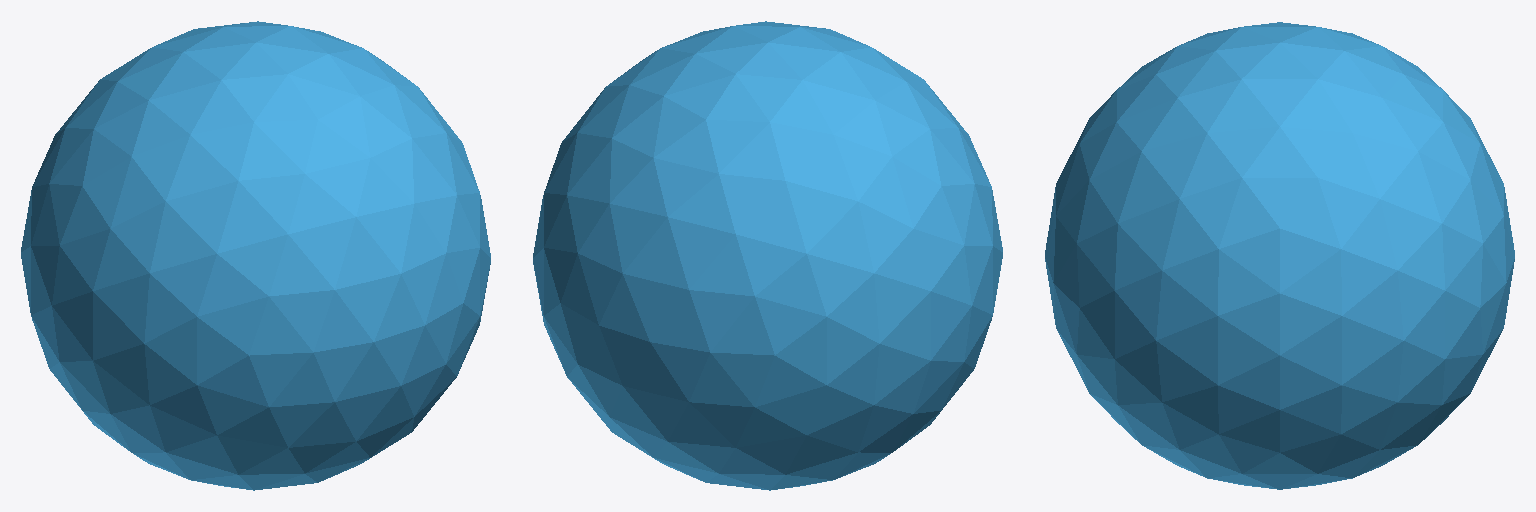
The robot description file, URDF, robot "pointRobot":
<?xml version="1.0"?>
<!-- =================================================================================== -->
<!-- |    This document was autogenerated by xacro from panda_arm.urdf.xacro           | -->
<!-- |    EDITING THIS FILE BY HAND IS NOT RECOMMENDED                                 | -->
<!-- =================================================================================== -->


<robot name="pointRobot">
  <material name="blue">
      <color rgba="0 0 0.8 1"/>
  </material>
  <material name="red">
      <color rgba="0.8 0 0.0 1"/>
  </material>
  <link name="world"/>
  <link name="base_link_x">
    <inertial>
      <mass value="1.0"/>
      <origin rpy="0 0 0" xyz="0 0 0"/>
      <inertia ixx="1.0" ixy="0.0" ixz="0.0" iyy="1.0" iyz="0.0" izz="1.0"/>
    </inertial>
        <collision>
      <origin rpy="0.0 0 0" xyz="0 0 0"/>
      <geometry>
          <mesh filename="package://meshes/pointrobot_link_0.stl"/>
      </geometry>
    </collision>
    <visual>
      <origin rpy="0.0 0 0" xyz="0 0 0"/>
      <geometry>
          <mesh filename="package://meshes/pointrobot_link_0.stl"/>
      </geometry>
    </visual>
  </link>
  <link name="base_link_y">
    <inertial>
      <mass value="1.0"/>
      <origin rpy="0 0 0" xyz="0 0 0"/>
      <inertia ixx="1.0" ixy="0.0" ixz="0.0" iyy="1.0" iyz="0.0" izz="1.0"/>
    </inertial>
        <collision>
      <origin rpy="0.0 0 0" xyz="0 0 0"/>
      <geometry>
          <mesh filename="package://meshes/pointrobot_link_1.stl"/>
      </geometry>
    </collision>
    <visual>
      <origin rpy="0.0 0 0" xyz="0 0 0"/>
      <geometry>
          <mesh filename="package://meshes/pointrobot_link_1.stl"/>
      </geometry>
    </visual>
  </link>
  <link name="base_link">
    <inertial>
      <mass value="100.0"/>
      <origin rpy="0 0 0" xyz="0 0 0"/>
      <inertia ixx="1.0" ixy="0.0" ixz="0.0" iyy="1.0" iyz="0.0" izz="1.0"/>
    </inertial>
    <collision>
      <origin rpy="0.0 0 0" xyz="0 0 0"/>
      <geometry>
          <mesh filename="package://meshes/pointrobot_link_2.stl"/>
      </geometry>
    </collision>
    <visual>
      <origin rpy="0.0 0 0" xyz="0 0 0"/>
      <geometry>
          <mesh filename="package://meshes/pointrobot_link_2.stl"/>
      </geometry>
    </visual>
  </link>
  <link name="lidar_link">
    <inertial>
      <mass value="100.0"/>
      <origin rpy="0 0 0" xyz="0 0 0"/>
      <inertia ixx="1.0" ixy="0.0" ixz="0.0" iyy="1.0" iyz="0.0" izz="1.0"/>
    </inertial>
    <collision>
      <origin rpy="0.0 0 0" xyz="0 0 0"/>
      <geometry>
          <cylinder length="0.1" radius="0.02"/>
      </geometry>
    </collision>
    <visual>
      <origin rpy="0.0 0 0" xyz="0 0 0"/>
      <geometry>
          <cylinder length="0.1" radius="0.02"/>
      </geometry>
      <material name="blue"/>
    </visual>
  </link>
  <link name="feature_link">
    <inertial>
      <mass value="1.0"/>
      <origin rpy="0 0 0" xyz="0 0 0"/>
      <inertia ixx="1.0" ixy="0.0" ixz="0.0" iyy="1.0" iyz="0.0" izz="1.0"/>
    </inertial>
    <collision>
      <origin rpy="0.0 0 0" xyz="0 0 0"/>
      <geometry>
          <cylinder length="0.001" radius="0.02"/>
      </geometry>
    </collision>
    <visual>
      <origin rpy="0.0 0 0" xyz="0 0 0"/>
      <geometry>
          <cylinder length="0.001" radius="0.02"/>
      </geometry>
      <material name="red"/>
    </visual>
  </link>
  <link name="lidar_sensor_link"/>
  <joint name="mobile_joint_x" type="prismatic">
    <safety_controller k_position="100.0" k_velocity="40.0" soft_lower_limit="-2.8973" soft_upper_limit="2.8973"/>
    <parent link="world"/>
    <child link="base_link_x"/>
    <origin rpy="0 0 0" xyz="0 0 0.05"/>
    <axis xyz="1 0 0"/>
    <limit effort="87" lower="-5" upper="5" velocity="2.1750"/>
  </joint>
  <joint name="mobile_joint_y" type="prismatic">
    <safety_controller k_position="100.0" k_velocity="40.0" soft_lower_limit="-2.8973" soft_upper_limit="2.8973"/>
    <parent link="base_link_x"/>
    <child link="base_link_y"/>
    <origin rpy="0 0 0" xyz="0 0 0"/>
    <axis xyz="0 1 0"/>
    <limit effort="87" lower="-5" upper="5" velocity="2.1750"/>
  </joint>
  <joint name="mobile_joint_theta" type="revolute">
    <parent link="base_link_y"/>
    <child link="base_link"/>
    <origin rpy="0 0 0" xyz="0 0 0"/>
    <axis xyz="0 0 1"/>
    <limit effort="87" lower="-5" upper="5" velocity="2.1750"/>
  </joint>
  <joint name="robot_lidar" type="fixed">
    <parent link="base_link"/>
    <child link="lidar_link"/>
    <origin rpy="0 0 0" xyz="0 0 0.1"/>
  </joint>
  <joint name="lidar_sensor_joint" type="fixed">
    <parent link="lidar_link"/>
    <child link="lidar_sensor_link"/>
    <origin rpy="0 0 0" xyz="0 0 0.1"/>
  </joint>
  <joint name="feature_link_joint" type='fixed'>
    <parent link="base_link"/>
    <child link="feature_link"/>
    <origin rpy="0 0 0" xyz="0 0.1 0.0505"/>
  </joint>
  
</robot>

--- Render facts (derived) ---
Views: 3 orthographic renders of the robot side by side, from view 1: azimuth 30°, elevation 25°; view 2: azimuth 150°, elevation 25°; view 3: azimuth 270°, elevation 25°.
Robot: pointRobot — 7 links, 6 joints (1 revolute, 2 prismatic, 3 fixed); root link world; default pose: all joints at 0.
Links seen in each view (by area): view 1: base_link_x; view 2: base_link_x; view 3: base_link_x.
Boxes of the visible links, left/top/right/bottom form: base_link_x: left=21, top=21, right=490, bottom=490; base_link_x: left=533, top=21, right=1002, bottom=490; base_link_x: left=1045, top=22, right=1514, bottom=489.
Size in the robot's own frame: 0.4 by 0.4 by 0.4 metres.
1 mesh visuals loaded from 3 distinct referenced files (1 binary STL); not drawn: 2 (reference not matched to a file when rendering).
